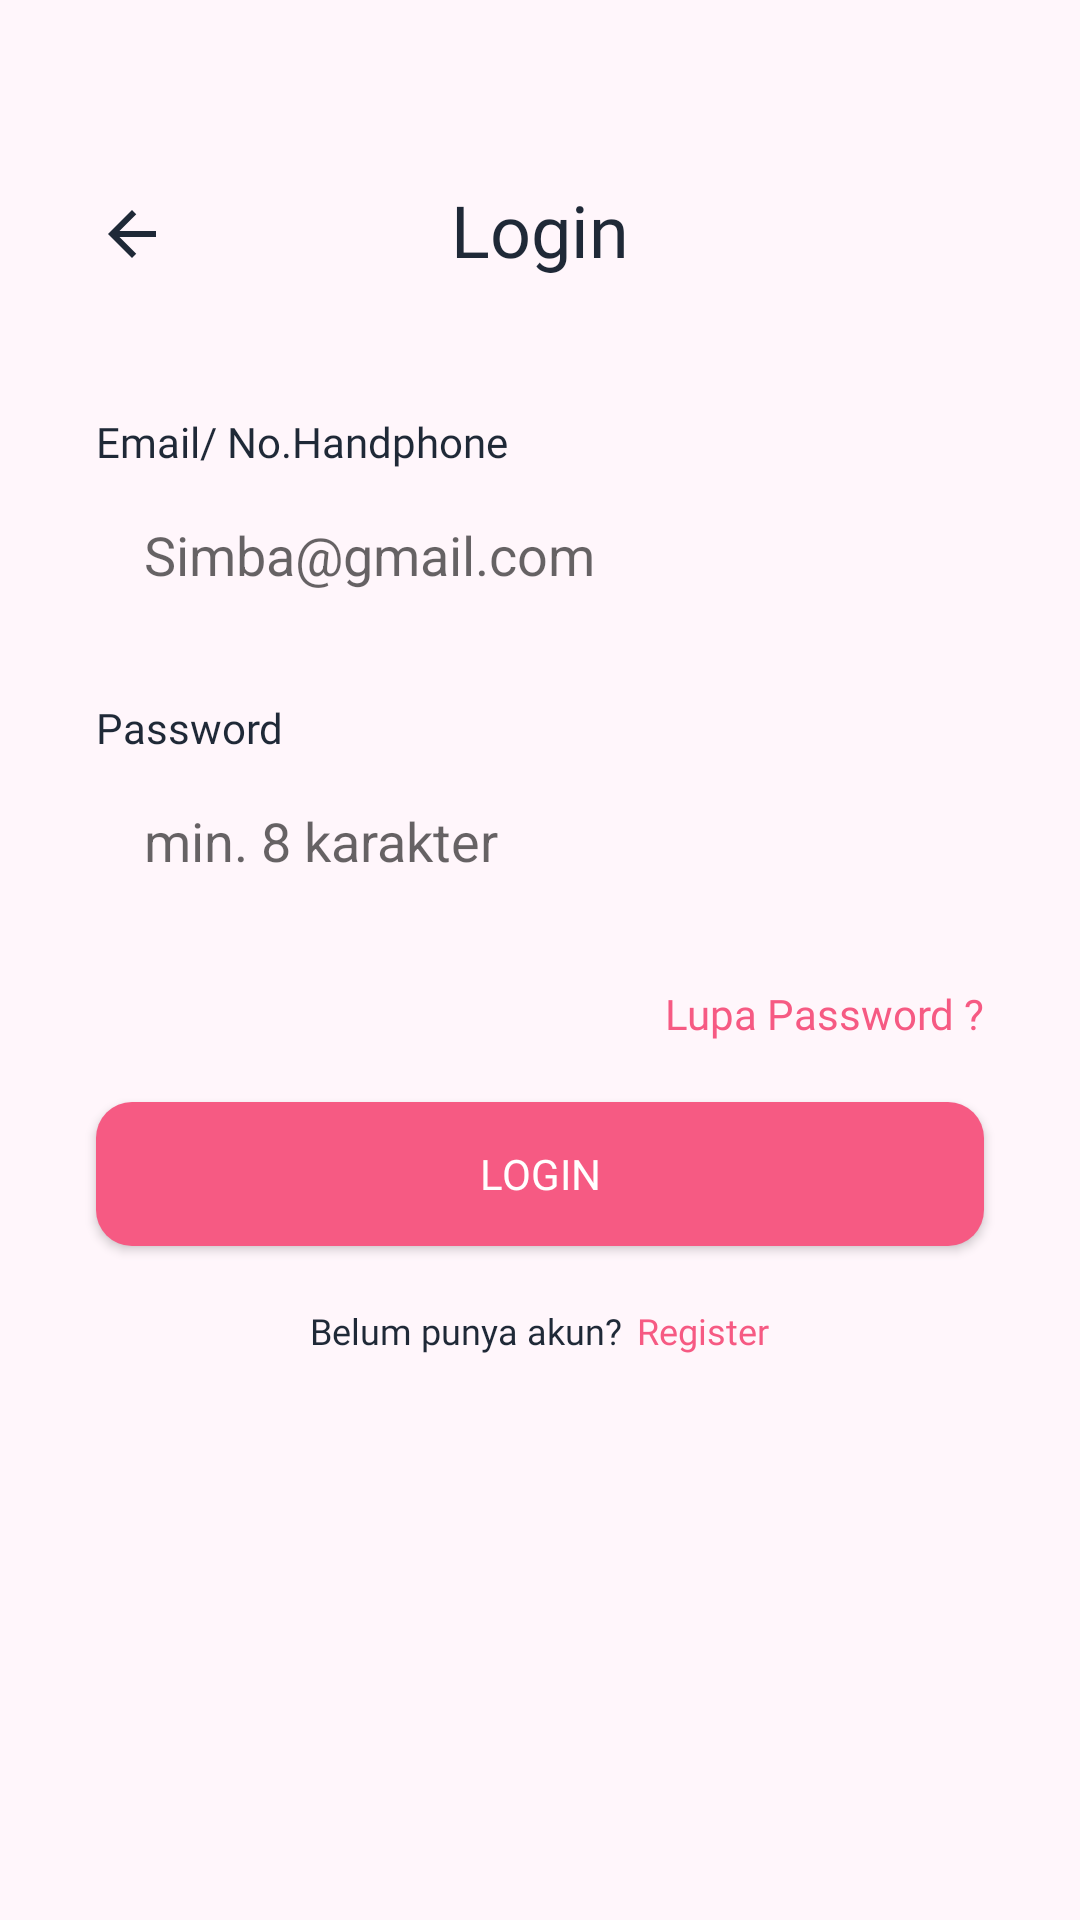

Locate icon controls on the screen. Image size 1080w x 1920h, boxes as (x1, y1, x2, y2).
back: (108, 210, 156, 258)
